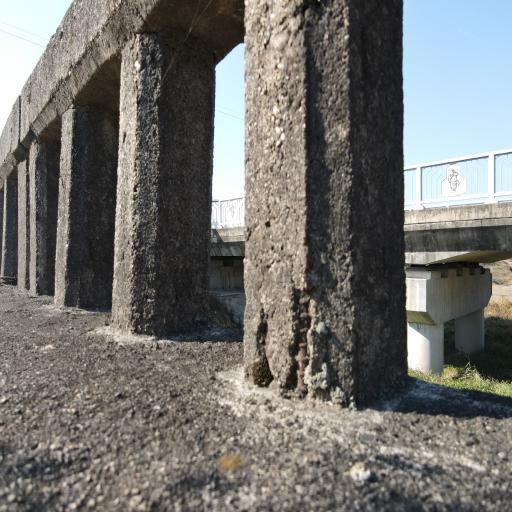exposed_rebar: (297, 295, 311, 395)
